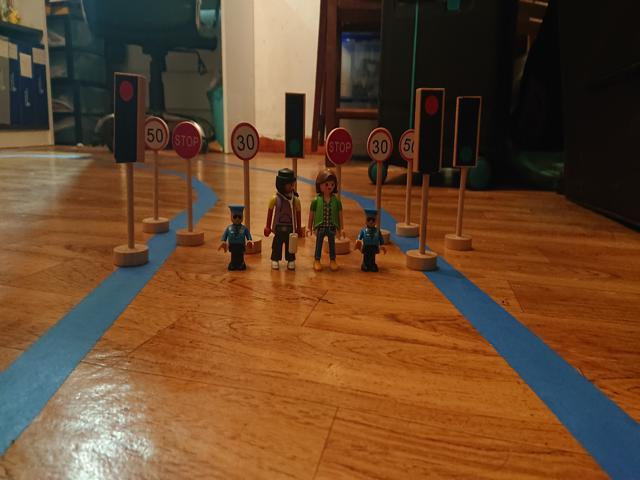30 speed sign: (230, 122, 262, 161), (366, 128, 394, 164)
50 speed sign: (145, 116, 169, 153), (399, 129, 415, 163)
green light: (457, 99, 477, 165), (286, 93, 302, 156)
person: (263, 167, 305, 272), (309, 169, 347, 273), (219, 203, 256, 271), (354, 205, 390, 274)
red light: (419, 90, 444, 171), (115, 77, 136, 152)
stop sign: (326, 127, 354, 167), (171, 123, 202, 158)
